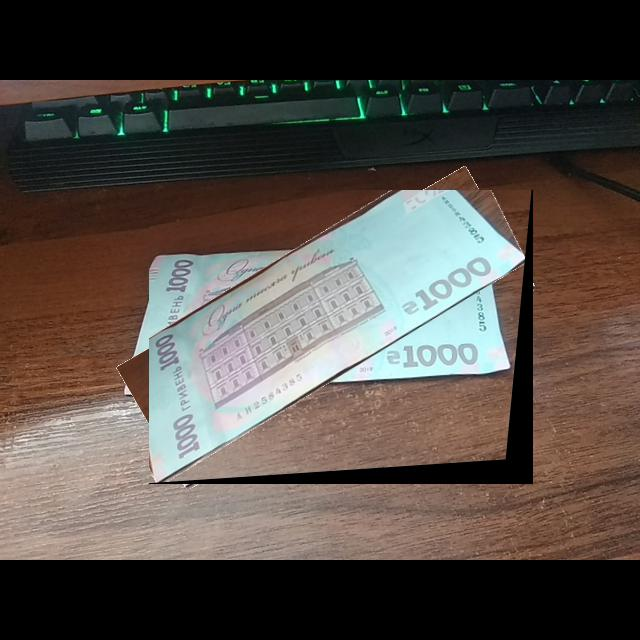1000uah: (149, 190, 527, 484)
